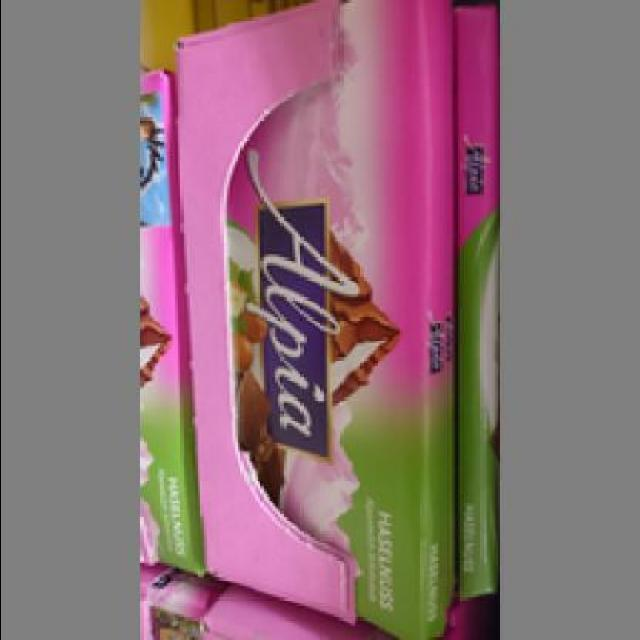Chocolate bar: (217, 1, 454, 637)
